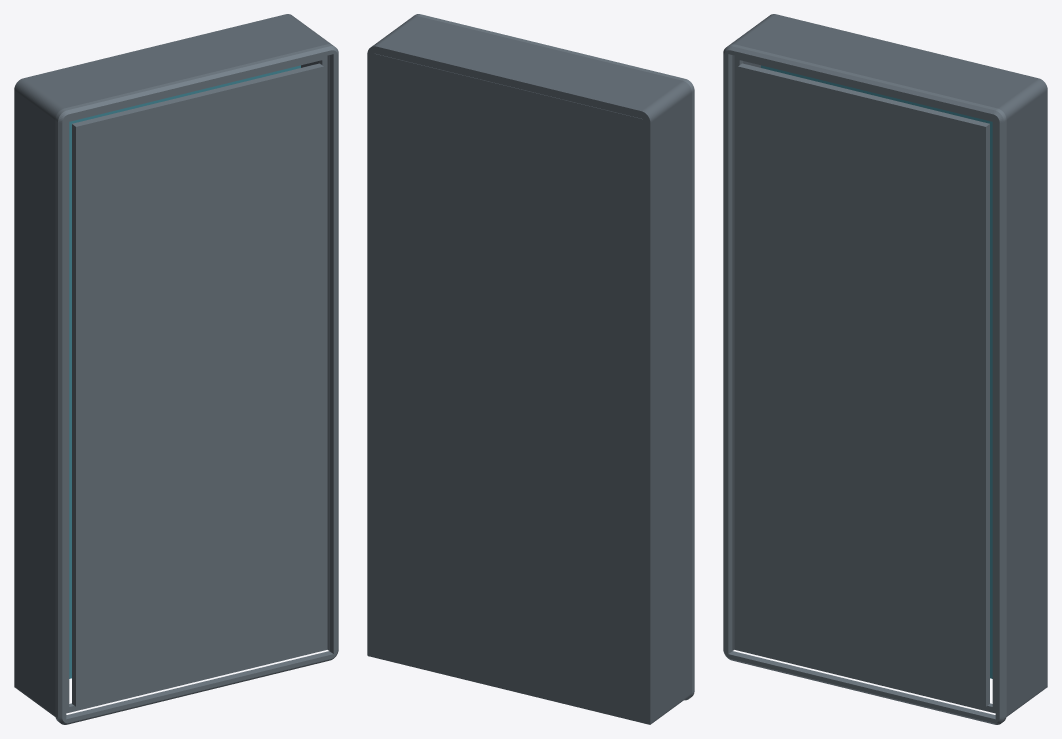
Rendered from specter-diy-case_assembly.glb.
3 views of the same model, side by side, from view 1: azimuth 30°, elevation 25°; view 2: azimuth 150°, elevation 25°; view 3: azimuth 330°, elevation 25° (orthographic).
Visible parts, largest first — view 1: lid, bottom, board_proxy; view 2: bottom, lid; view 3: lid, bottom, board_proxy.
Part boxes in pixels (x1,y1,x2,y2): lid: [55, 44, 338, 724]; bottom: [14, 14, 331, 716]; board_proxy: [69, 65, 300, 678]; bottom: [367, 16, 691, 724]; lid: [413, 14, 694, 700]; lid: [723, 44, 1006, 724]; bottom: [730, 14, 1047, 716]; board_proxy: [761, 65, 992, 678].
Size of the model in its own units: 61.4 by 128 by 17.2.
